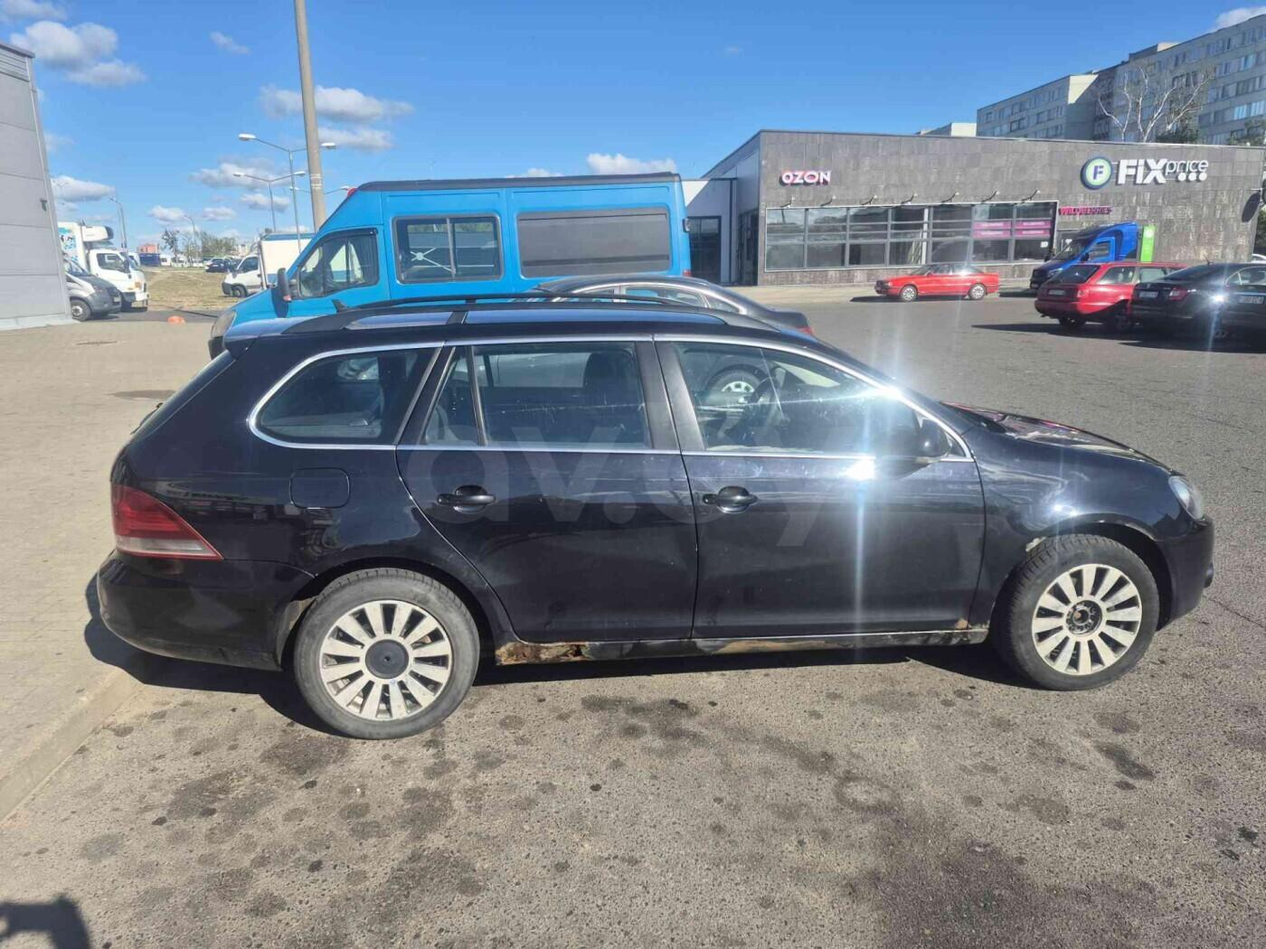Golf_2008-2013: (90, 304, 1219, 743)
